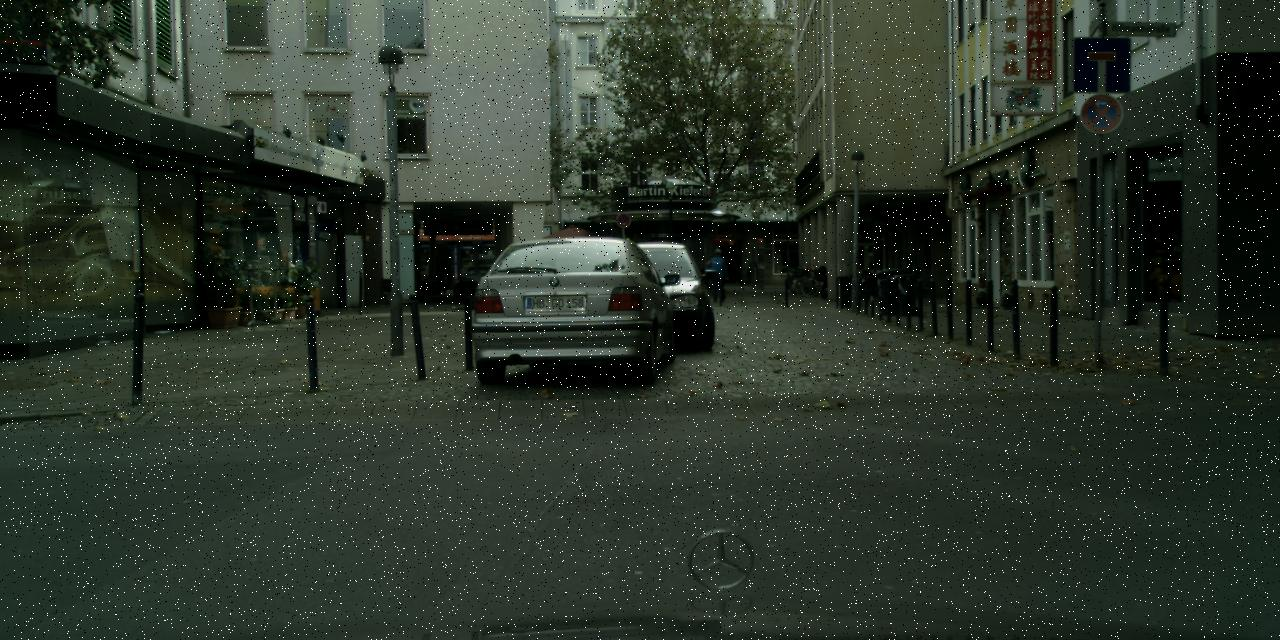ped: (707, 248, 728, 301)
